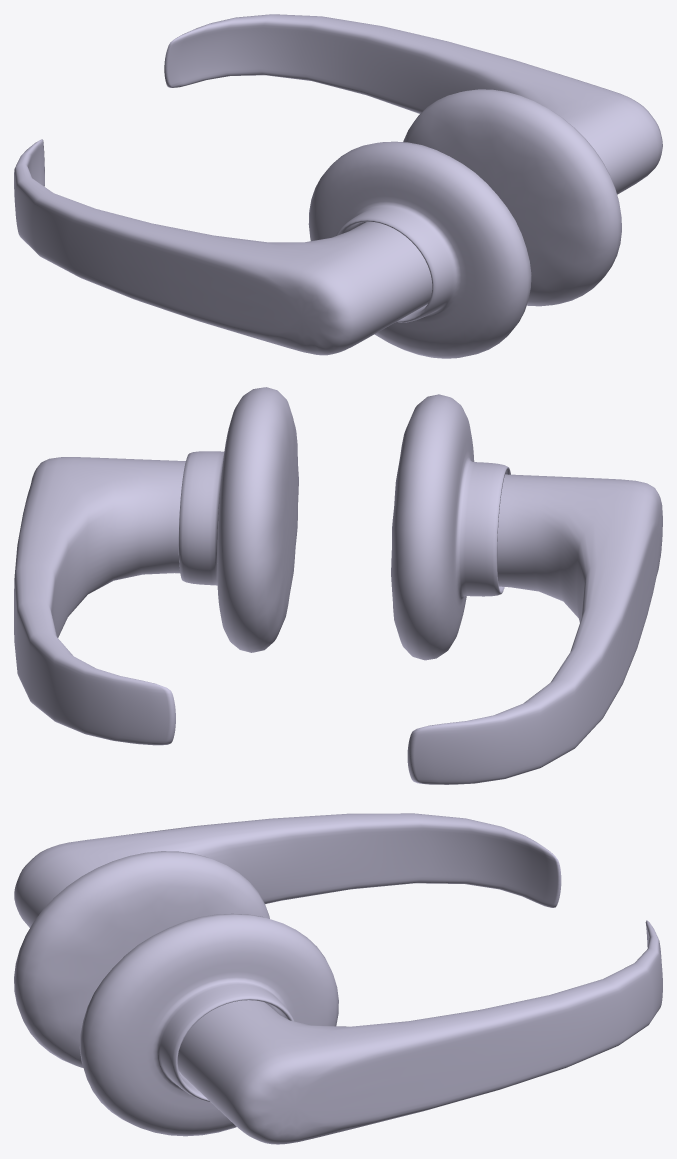
The model's file is doorHandle.fbx.
3 views of the same model, one above another, from view 1: azimuth 30°, elevation 25°; view 2: azimuth 150°, elevation 25°; view 3: azimuth 270°, elevation 25° (orthographic). The views are drawn at different scales.
Parts seen in each view (by area): view 1: Handle_Front.005; view 2: Handle_Front.005; view 3: Handle_Front.005.
Boxes of the visible parts, left/top/right/bottom form: Handle_Front.005: left=14, top=14, right=662, bottom=358; Handle_Front.005: left=14, top=387, right=662, bottom=784; Handle_Front.005: left=14, top=813, right=662, bottom=1144.
Size of the model in its own units: 195 by 69.35 by 190.
